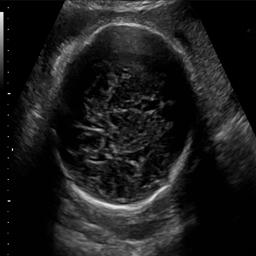normal: (47, 16, 207, 212)
